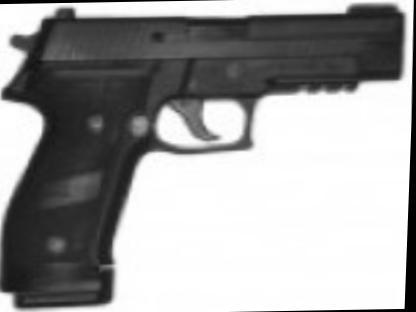pistol: (0, 0, 408, 305)
